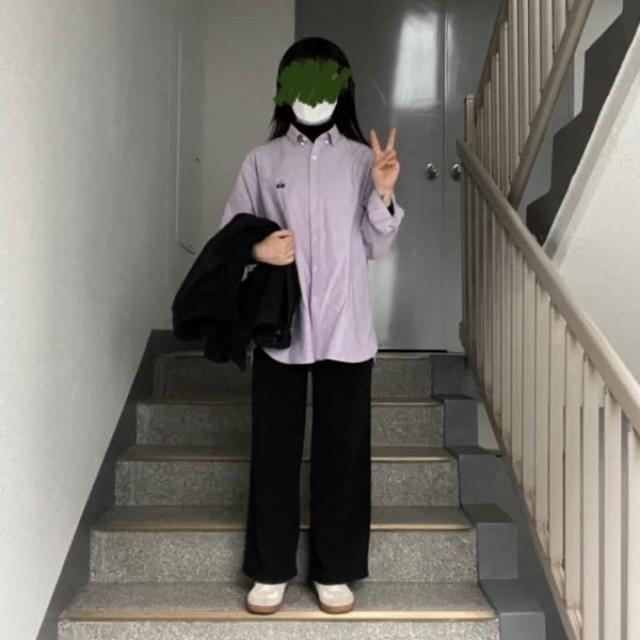shirt: (218, 120, 406, 358)
slacks: (239, 334, 372, 584)
